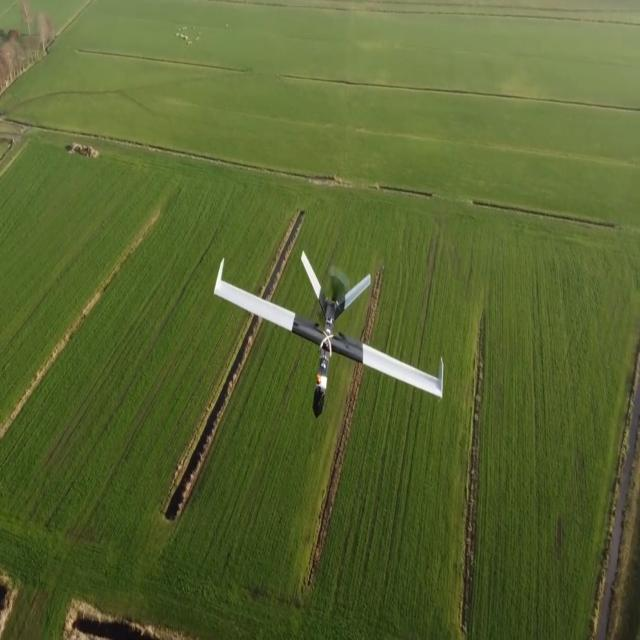iha: (205, 236, 436, 407)
